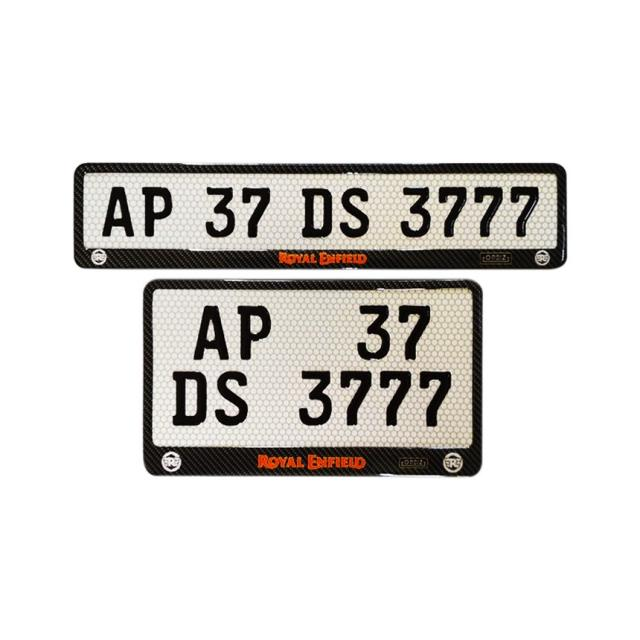plate: (150, 284, 483, 469), (80, 166, 568, 265)
